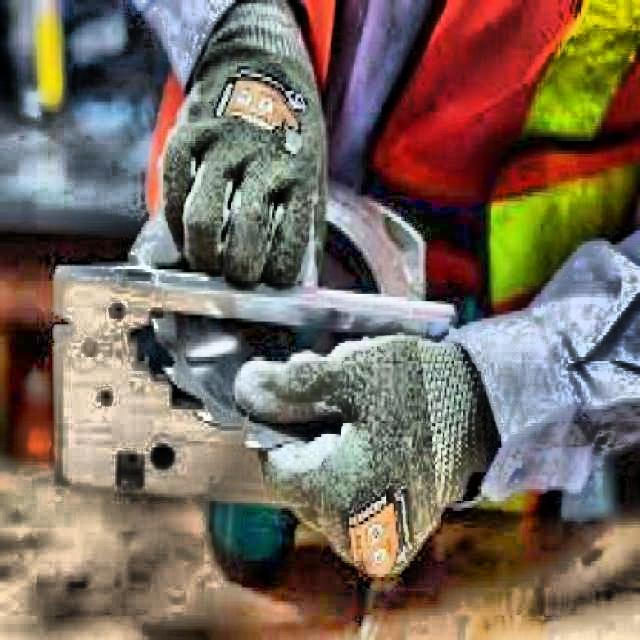safety_jacket: (304, 0, 640, 289)
